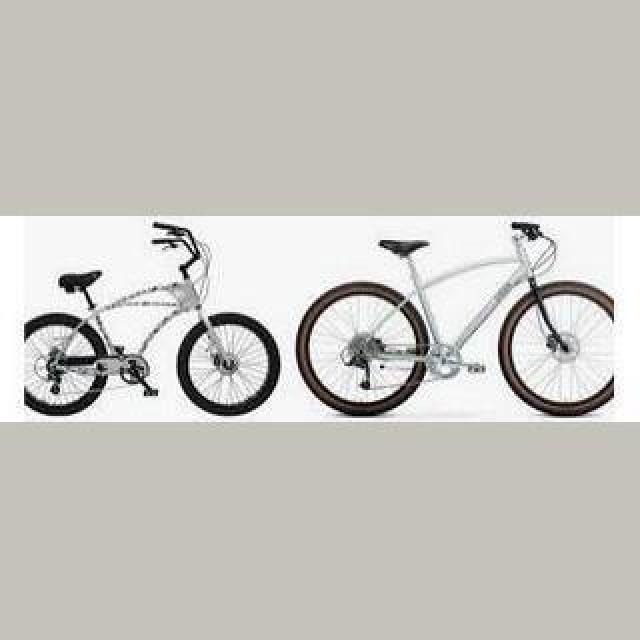Person: (297, 219, 617, 419), (23, 224, 279, 418)
